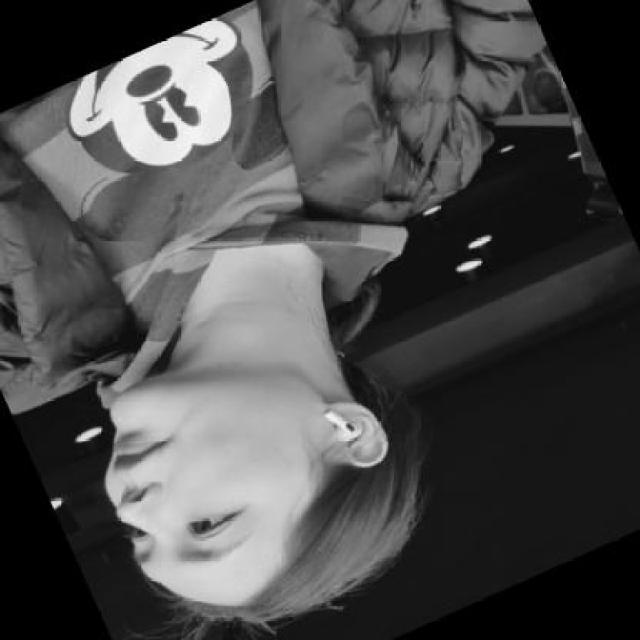earphone: (325, 395, 391, 460)
